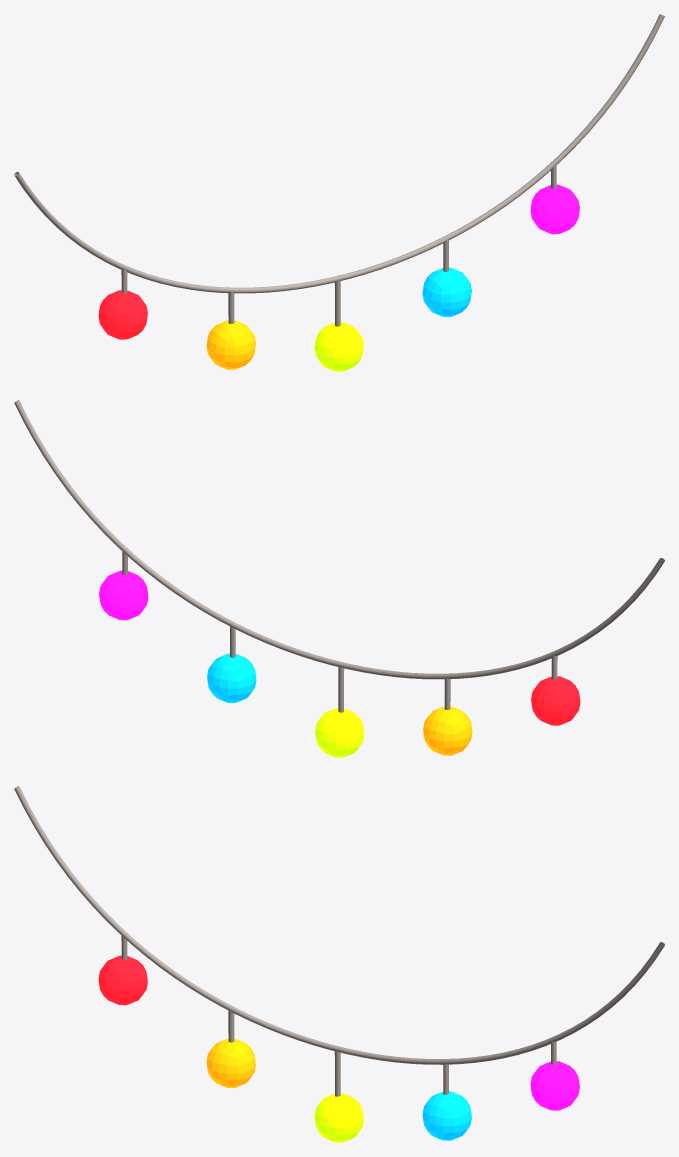
The model's file is Lichterkette.fbx.
3 views of the same model, one above another, from view 1: azimuth 30°, elevation 25°; view 2: azimuth 150°, elevation 25°; view 3: azimuth 330°, elevation 25° (orthographic).
Visible parts, largest first — view 1: NurbsPath.005, Roundcube.001, Roundcube.002, Roundcube, Roundcube.004, Roundcube.003; view 2: NurbsPath.005, Roundcube.002, Roundcube.001, Roundcube, Roundcube.004, Roundcube.003; view 3: NurbsPath.005, Roundcube, Roundcube.003, Roundcube.004, Roundcube.001, Roundcube.002.
Part boxes in pixels (x1,y1,x2,y2): NurbsPath.005: (14,14,664,326); Roundcube.001: (206,320,255,369); Roundcube.002: (98,290,147,339); Roundcube: (314,322,363,371); Roundcube.004: (530,184,579,234); Roundcube.003: (422,267,471,317); NurbsPath.005: (14,400,664,712); Roundcube.002: (531,676,580,725); Roundcube.001: (423,706,472,755); Roundcube: (315,708,364,757); Roundcube.004: (99,570,148,620); Roundcube.003: (207,653,256,703); NurbsPath.005: (14,786,664,1096); Roundcube: (314,1093,363,1142); Roundcube.003: (422,1091,471,1140); Roundcube.004: (530,1061,579,1110); Roundcube.001: (206,1038,255,1087); Roundcube.002: (98,955,147,1005).
Size of the model in its own units: 1204 by 489 by 80.4.
